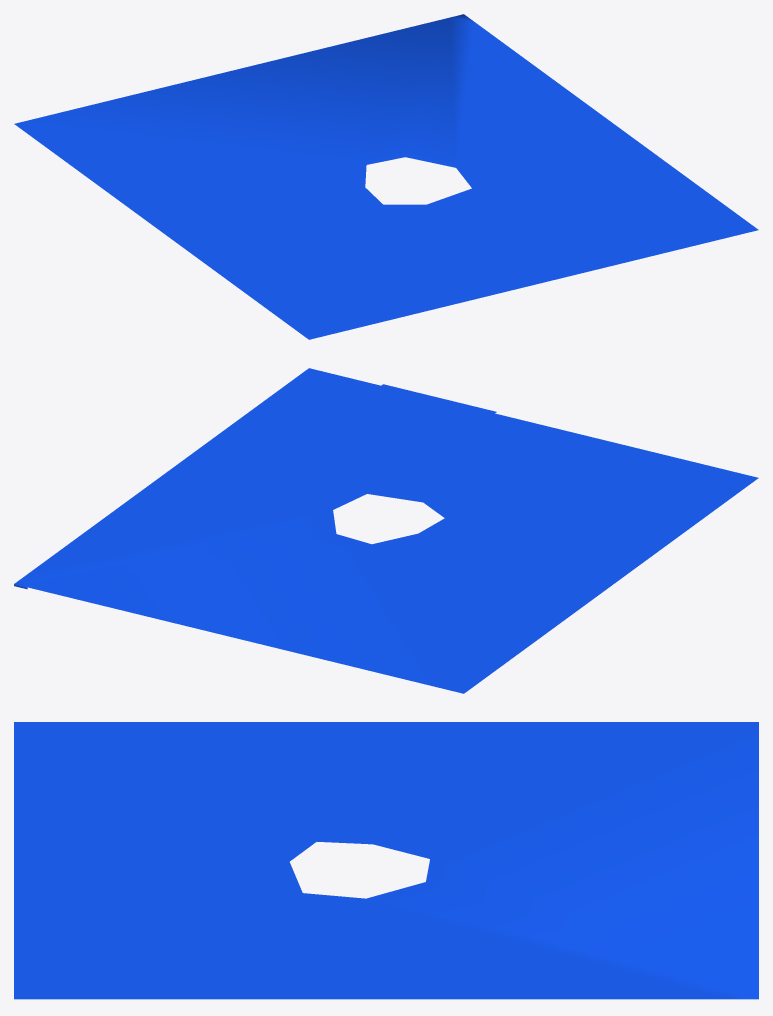
File: Water_01.fbx
3 renders of one model, top to bottom at view 1: azimuth 30°, elevation 25°; view 2: azimuth 150°, elevation 25°; view 3: azimuth 270°, elevation 25°, orthographic. The views are drawn at different scales.
Visible parts, largest first — view 1: Water_01; view 2: Water_01; view 3: Water_01.
Boxes of the visible parts, x1,y1,x2,y2 form: Water_01: [14, 14, 758, 339]; Water_01: [14, 368, 758, 693]; Water_01: [14, 722, 758, 999].
Bounding box in the file's own units: 300000 × 340752 × 8215.
